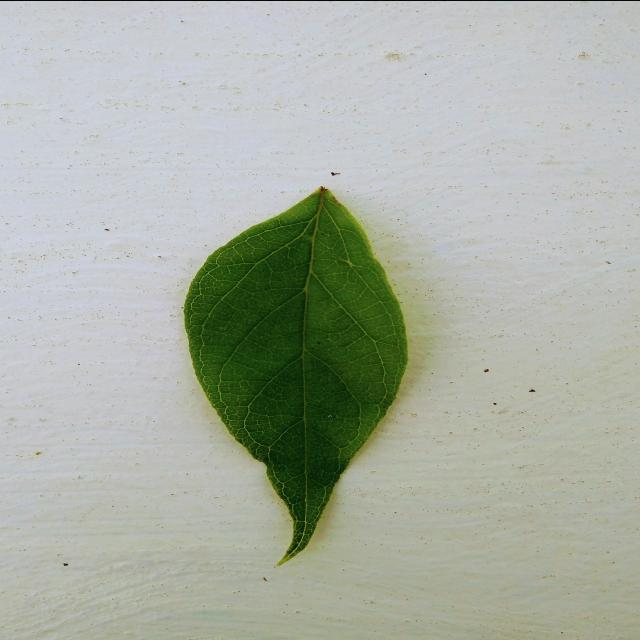leaf: (182, 184, 409, 566)
